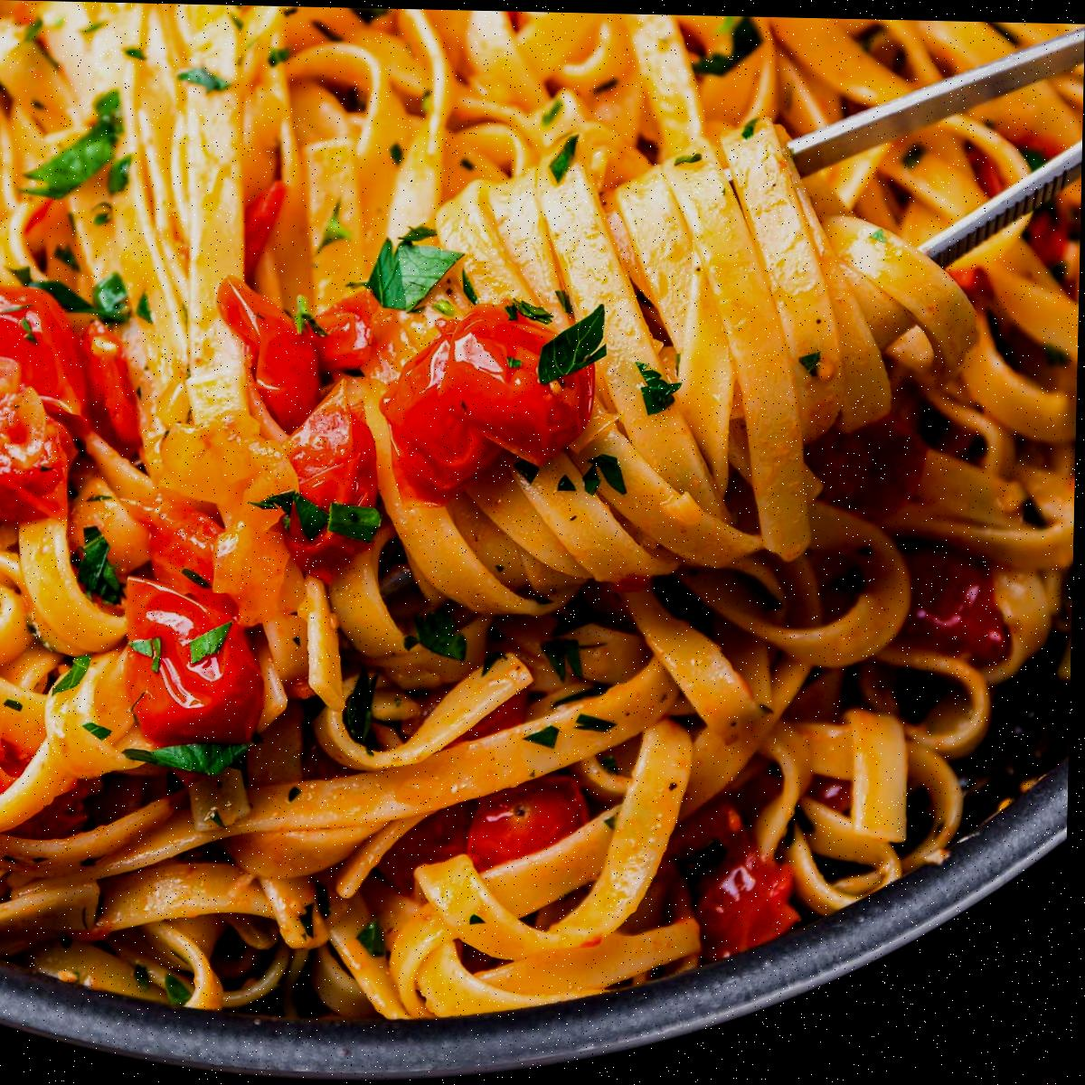pasta: (0, 0, 1083, 1017)
